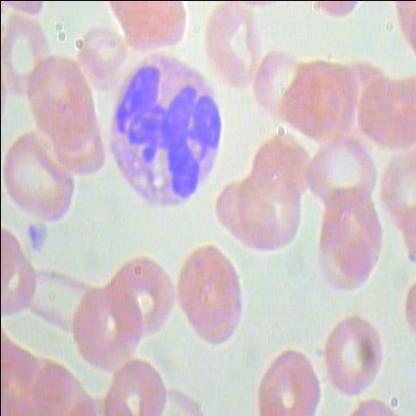RBC: (171, 244, 252, 349), (0, 127, 84, 225), (66, 286, 144, 378), (230, 162, 306, 254), (304, 131, 380, 223), (316, 310, 390, 398), (202, 1, 266, 90), (251, 341, 323, 415), (1, 18, 55, 105), (104, 1, 192, 54), (101, 358, 170, 415)
WBC: (97, 46, 233, 214)
